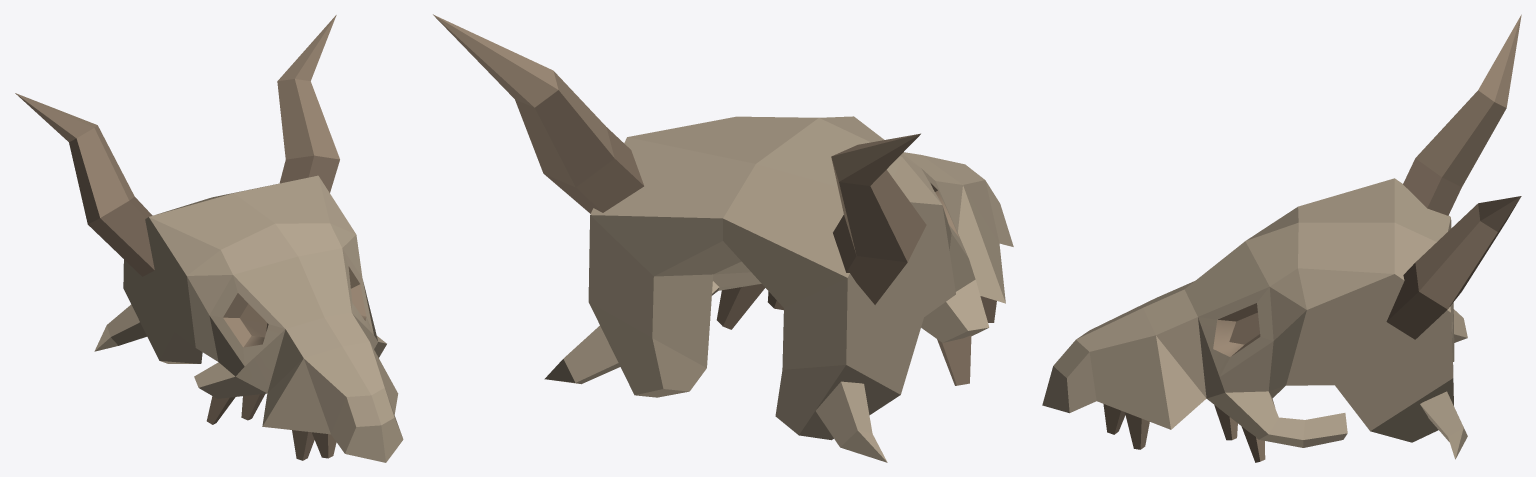
Rendered from skull.glb.
3 renders of one model, left to right at view 1: azimuth 30°, elevation 25°; view 2: azimuth 150°, elevation 25°; view 3: azimuth 270°, elevation 25°, orthographic. The views are drawn at different scales.
Parts seen in each view (by area): view 1: SM_Env_Dungeon_Skull_01; view 2: SM_Env_Dungeon_Skull_01; view 3: SM_Env_Dungeon_Skull_01.
Boxes of the visible parts, <box> form: SM_Env_Dungeon_Skull_01: <box>15,15,403,462</box>; SM_Env_Dungeon_Skull_01: <box>433,14,1013,462</box>; SM_Env_Dungeon_Skull_01: <box>1042,14,1521,462</box>.
Bounding box in the file's own units: 1.3 × 1.06 × 1.45.
Materials: 1 (1 with a texture image).
